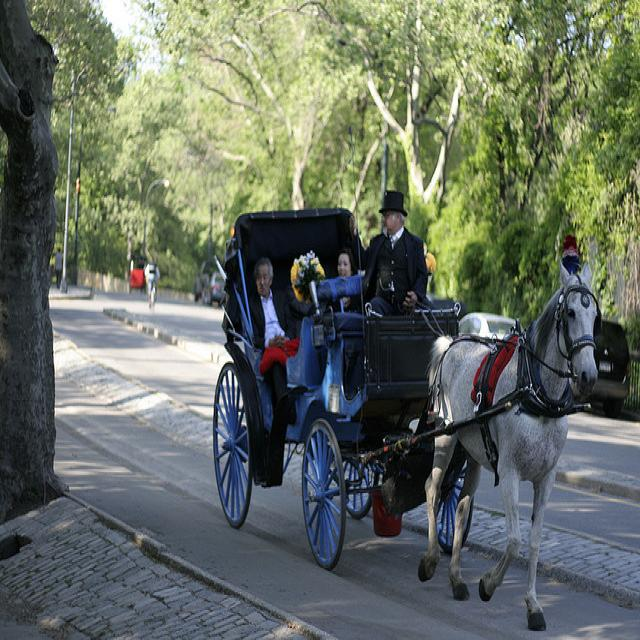Vehicle: (193, 262, 226, 304)
